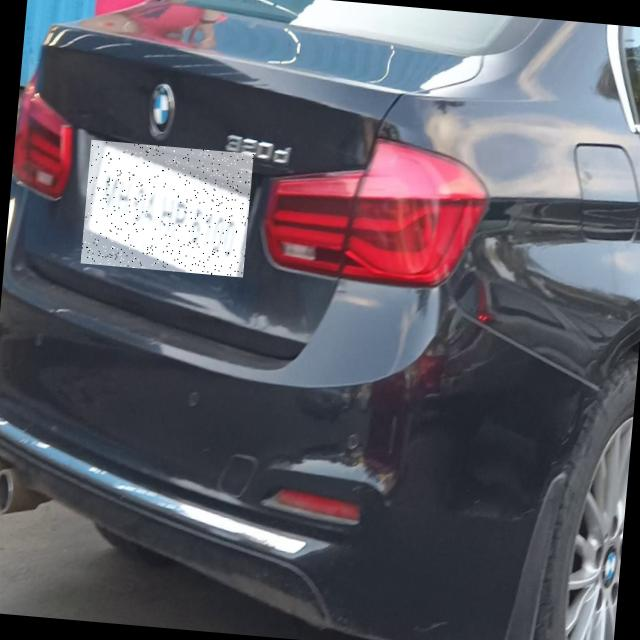Plate: (81, 140, 254, 278)
